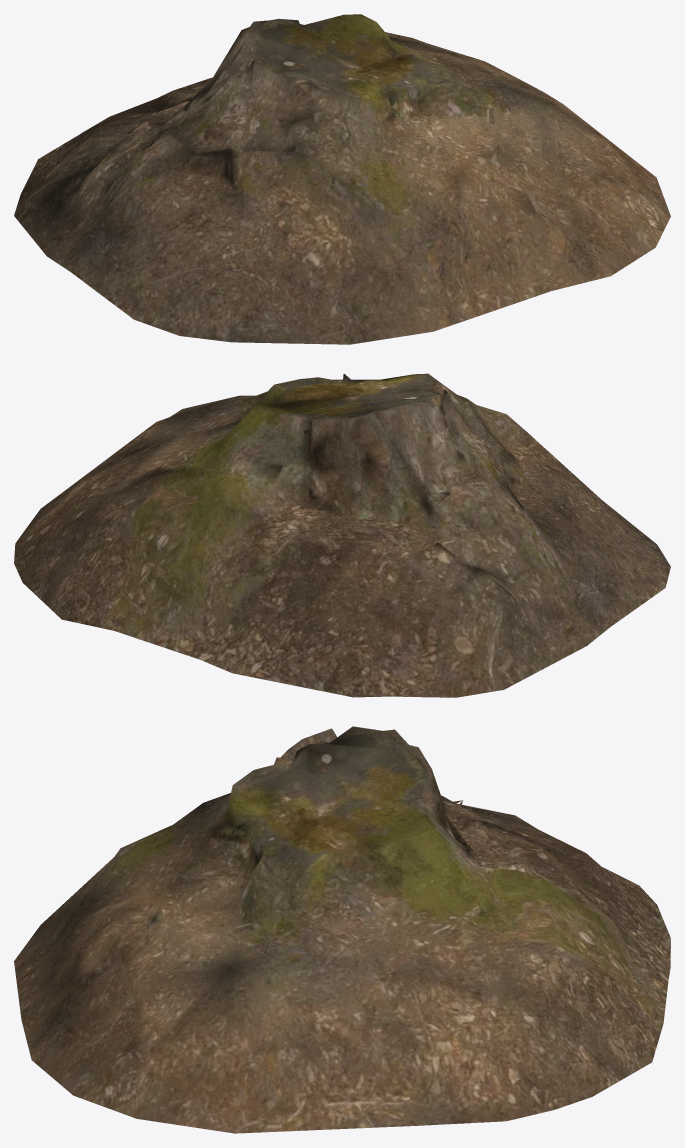
Rendered from stump2.glb.
The picture shows the model from 3 angles, top to bottom: view 1: azimuth 30°, elevation 25°; view 2: azimuth 150°, elevation 25°; view 3: azimuth 270°, elevation 25°; orthographic projection. The views are drawn at different scales.
Parts seen in each view (by area): view 1: tree_stump_02; view 2: tree_stump_02; view 3: tree_stump_02.
Part boxes in pixels (x1=…): tree_stump_02: x1=14, y1=14, x2=670, y2=344; tree_stump_02: x1=14, y1=373, x2=670, y2=697; tree_stump_02: x1=14, y1=726, x2=670, y2=1133.
Bounding box in the file's own units: 1.51 × 0.5159 × 1.39.
Materials: 1 (1 with a texture image).
